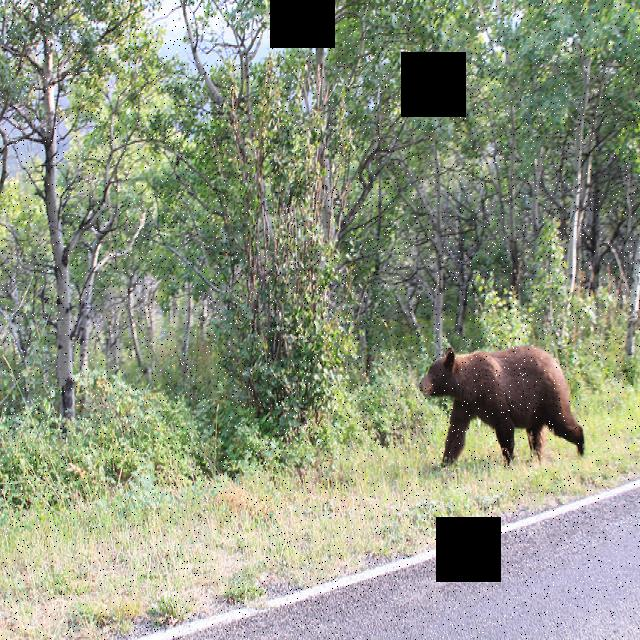Bear: (417, 338, 587, 462)
